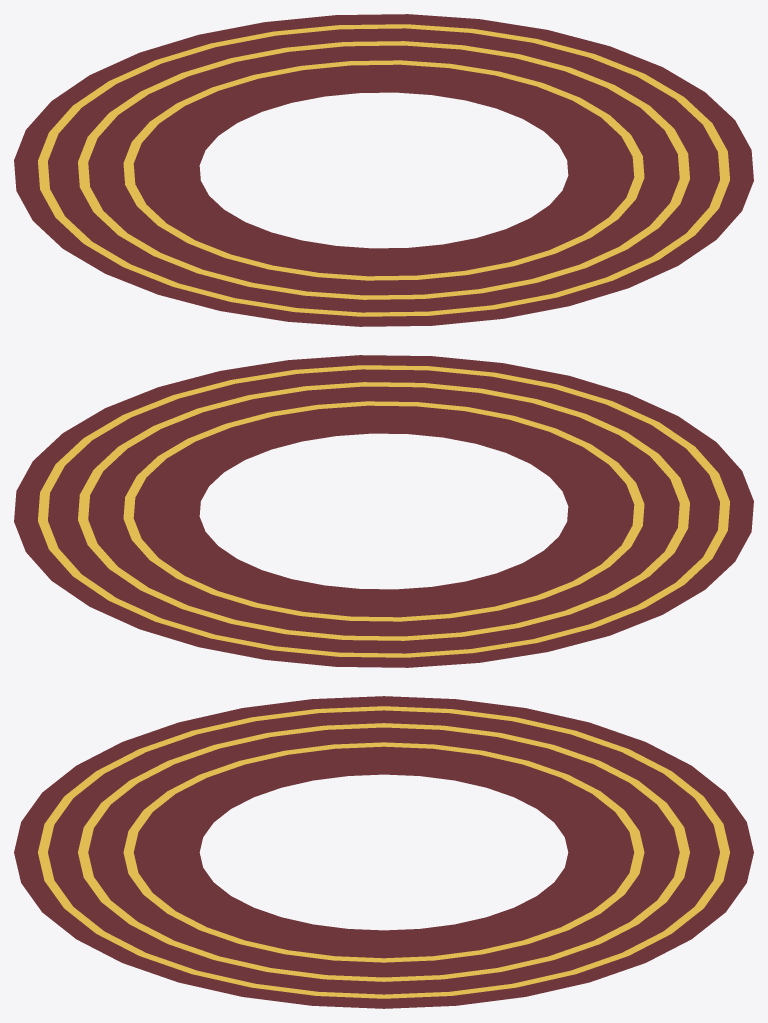
Rendered from Royal_Mat.fbx.
3 renders of one model, top to bottom at view 1: azimuth 30°, elevation 25°; view 2: azimuth 150°, elevation 25°; view 3: azimuth 270°, elevation 25°, orthographic.
Visible parts, largest first — view 1: Royal_Mat; view 2: Royal_Mat; view 3: Royal_Mat.
Boxes of the visible parts, <box> form: Royal_Mat: <box>14,14,753,326</box>; Royal_Mat: <box>14,355,753,667</box>; Royal_Mat: <box>14,696,753,1008</box>.
Size of the model in its own units: 2698 by 0.00044 by 2698.
